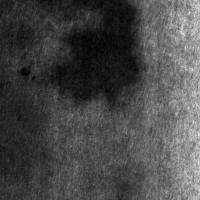patches: (54, 1, 140, 96), (0, 84, 45, 154)
